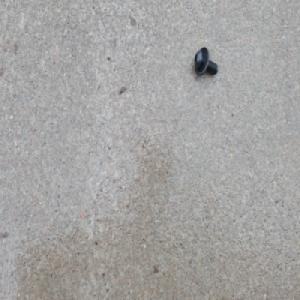BoltWasher: (191, 44, 216, 76)
